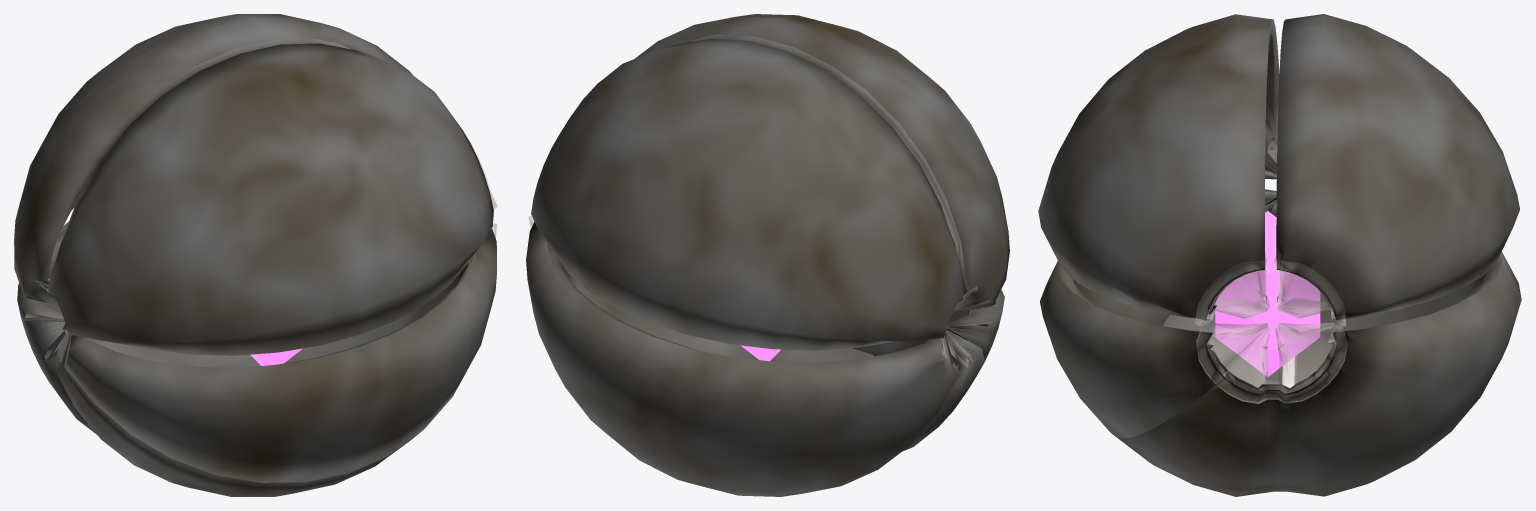
Rendered from MolecEmissive.glb.
3 renders of one model, left to right at view 1: azimuth 30°, elevation 25°; view 2: azimuth 150°, elevation 25°; view 3: azimuth 270°, elevation 25°, orthographic.
Visible parts, largest first — view 1: Molec; view 2: Molec; view 3: Molec, Icosphere.001.
Part boxes in pixels (x1,y1,x2,y2): Molec: (14,14,497,496); Molec: (526,14,1009,496); Molec: (1038,14,1521,496); Icosphere.001: (1215,210,1320,376).
Size of the model in its own units: 1.23 by 1.21 by 1.22.
Materials: 3 (1 with a texture image).
